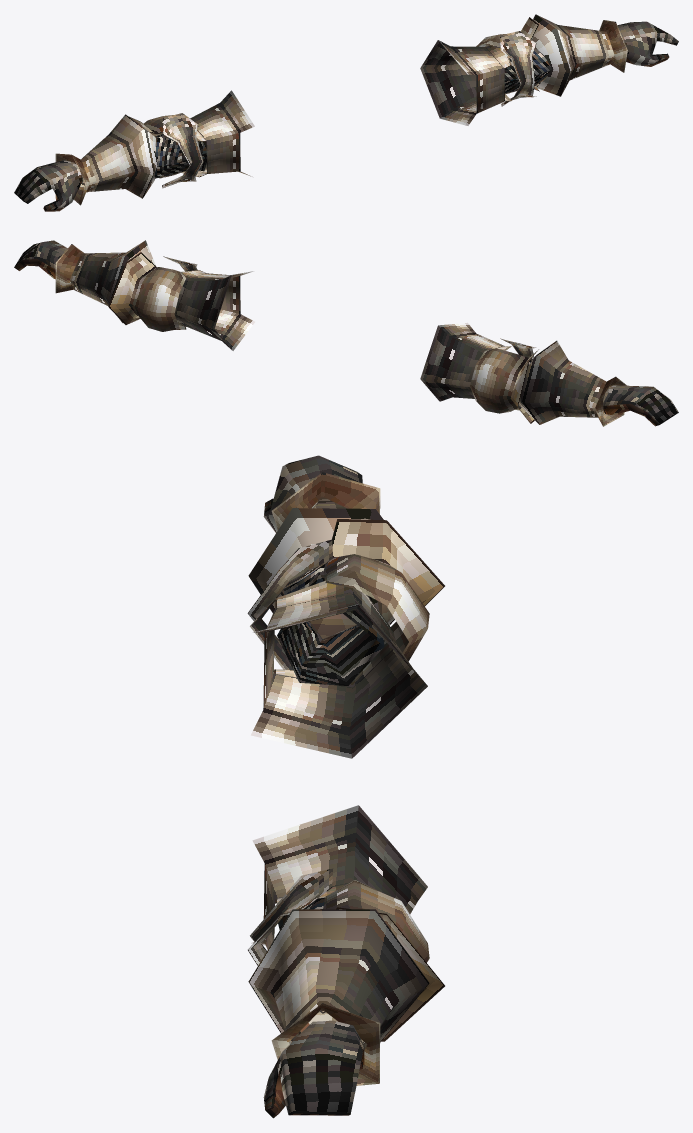
Rendered from m_gauntlet049.obj.
3 renders of one model, top to bottom at view 1: azimuth 30°, elevation 25°; view 2: azimuth 150°, elevation 25°; view 3: azimuth 270°, elevation 25°, orthographic. The views are drawn at different scales.
Visible parts, largest first — view 1: mesh00; view 2: mesh00; view 3: mesh00.
Part boxes in pixels (x1,y1,x2,y2): mesh00: [14, 14, 678, 211]; mesh00: [14, 240, 678, 426]; mesh00: [247, 455, 444, 1118].
Bounding box in the file's own units: 180 × 20.39 × 23.56.
Materials: 1 (1 with a texture image).
